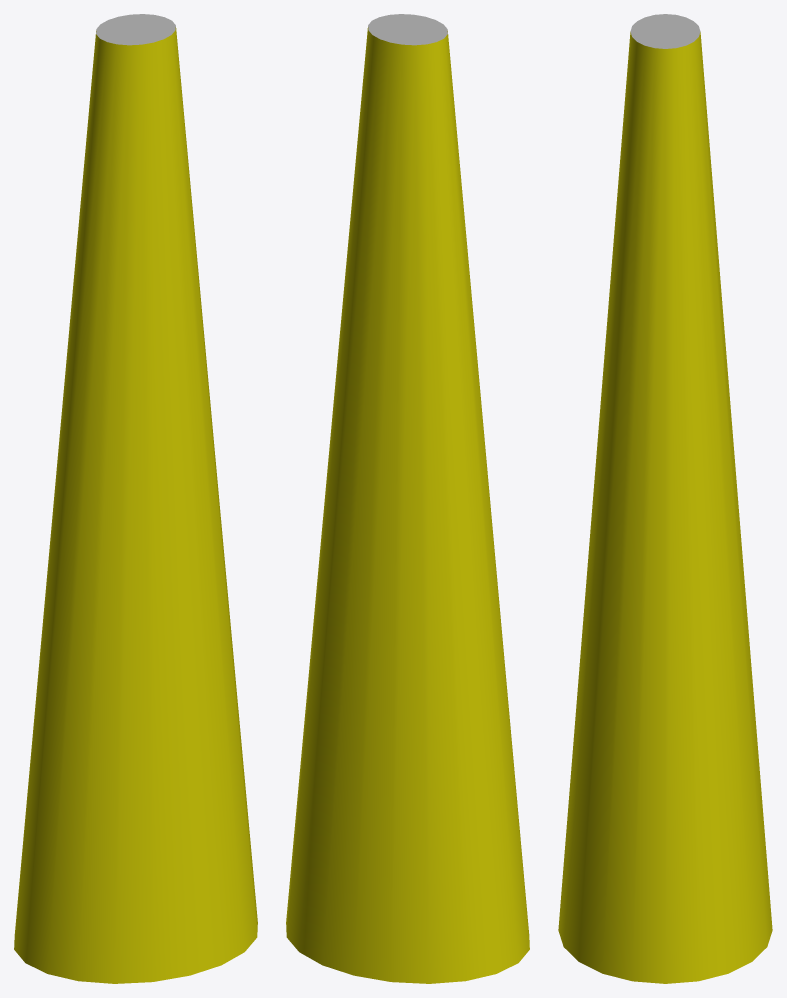
The model's file is Antenna2.fbx.
The picture shows the model from 3 angles, left to right: view 1: azimuth 30°, elevation 25°; view 2: azimuth 150°, elevation 25°; view 3: azimuth 270°, elevation 25°; orthographic projection.
Visible parts, largest first — view 1: pCylinder46; view 2: pCylinder46; view 3: pCylinder46.
Part boxes in pixels (x1,y1,x2,y2): pCylinder46: [14, 14, 257, 983]; pCylinder46: [286, 14, 529, 983]; pCylinder46: [558, 14, 772, 983].
Bounding box in the file's own units: 25.16 × 98.48 × 21.27.
